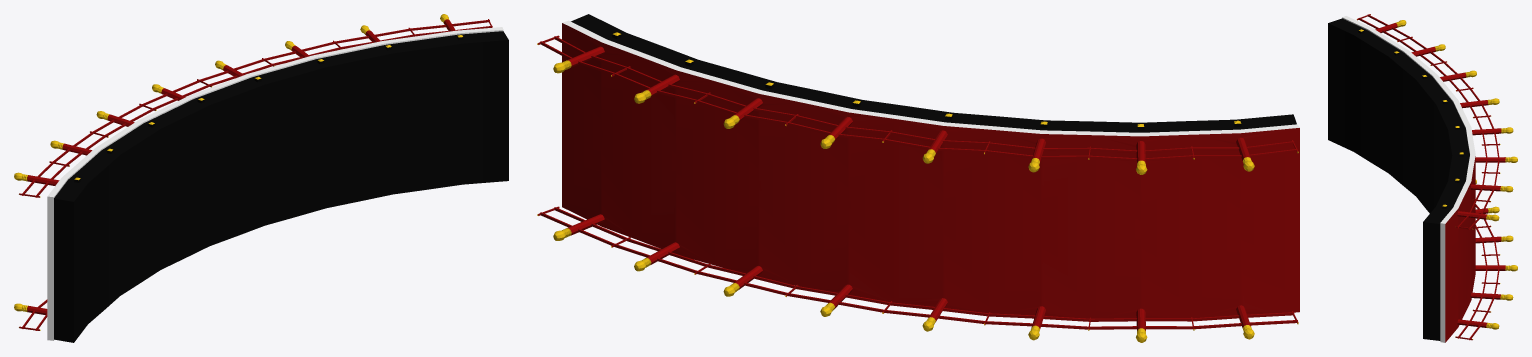
File: PontJap.FBX
The picture shows the model from 3 angles, left to right: view 1: azimuth 30°, elevation 25°; view 2: azimuth 150°, elevation 25°; view 3: azimuth 270°, elevation 25°; orthographic projection. The views are drawn at different scales.
Visible parts, largest first — view 1: Line001; view 2: Line001; view 3: Line001.
Part boxes in pixels (<box>): Line001: <box>14,14,508,342</box>; Line001: <box>537,14,1299,342</box>; Line001: <box>1328,14,1517,342</box>.
Size of the model in its own units: 167 by 44.7 by 62.32.
